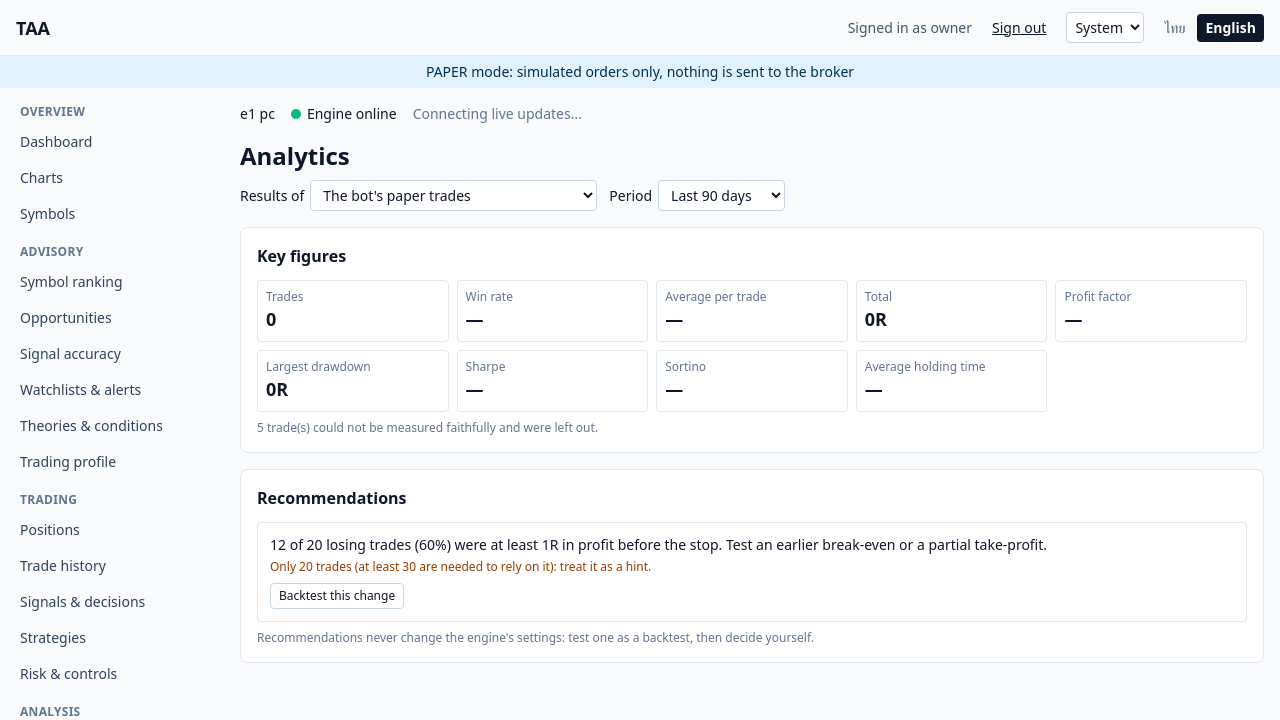
analytics page › shows a backtest run: key figures, curves, styles and attribution
Select "A backtest run" in the dropdown labelled "Results of". click: (454, 196)
box: [310,180,597,211]
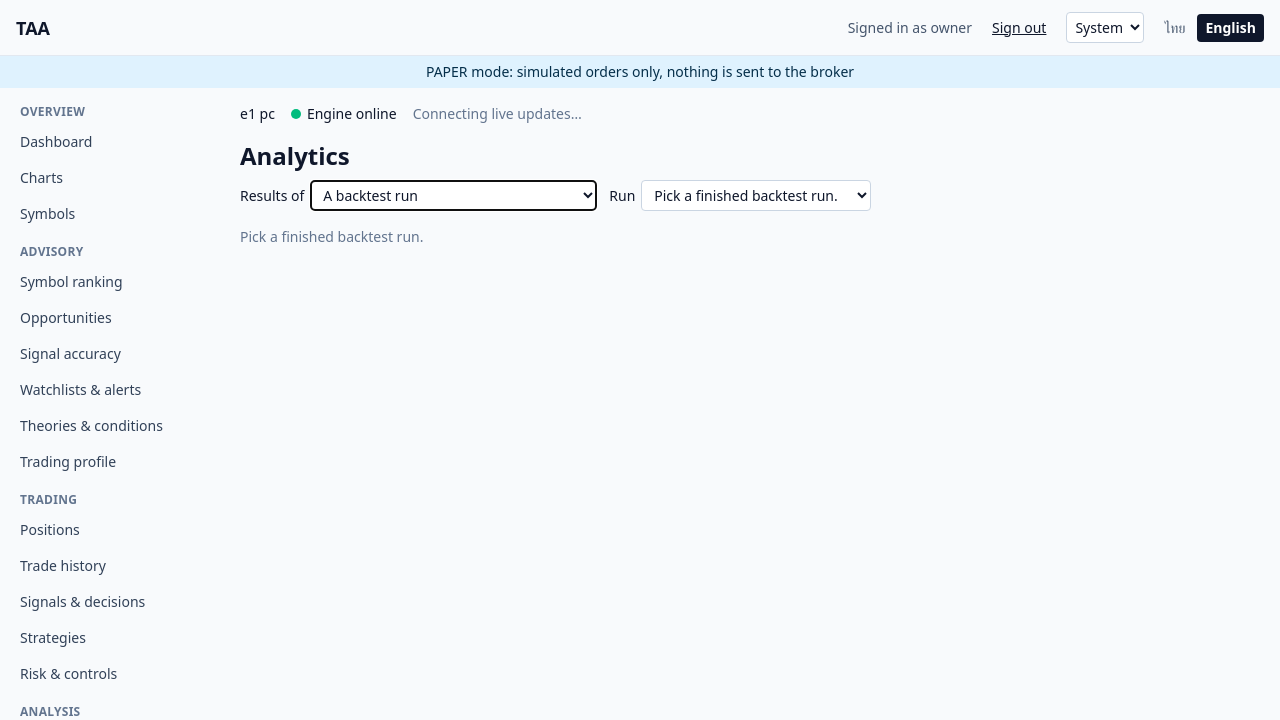
Check: the text "Pick a finished backtest run." is shown, box [240,227,424,246]
Select "1 Jan 2027, 07:00 · standard" in the dropdown labelled "Run". click: (756, 196)
box: [641,180,871,211]
(page scrolled)
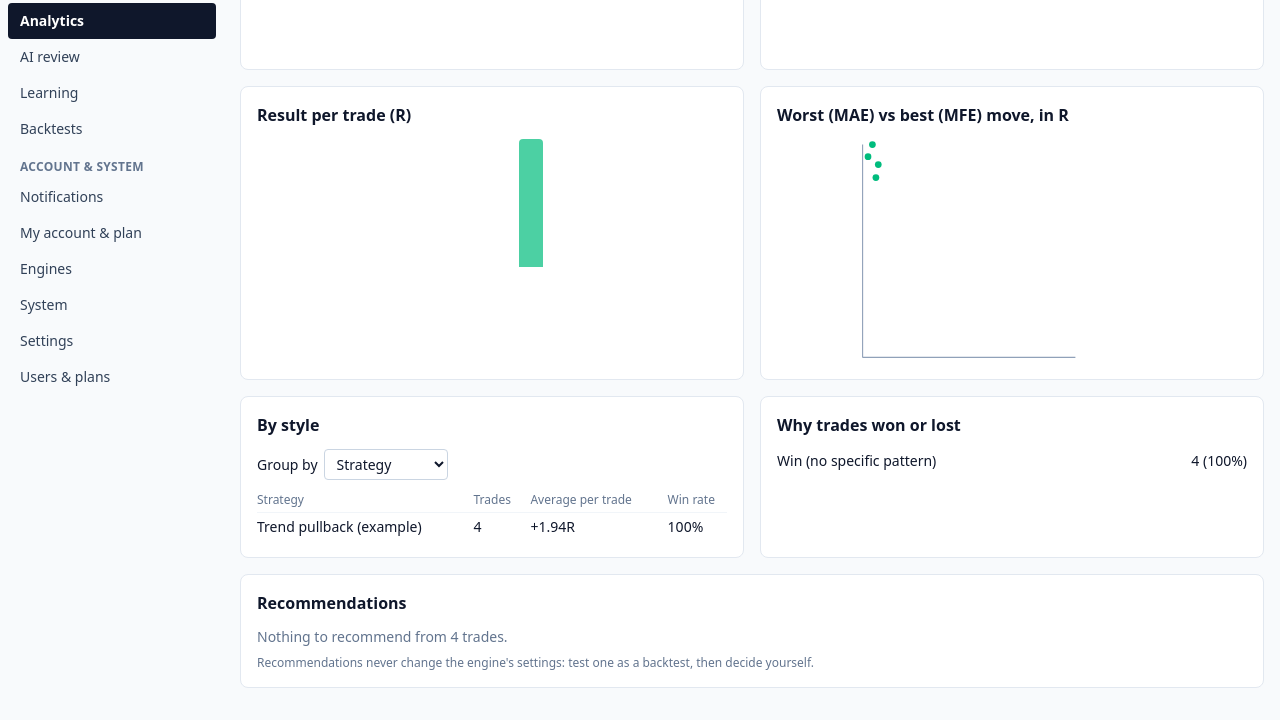
Check: the element "Why trades won or lost" shows "Win (no specific pattern)", box [777,451,936,470]
Check: the table shows "Trend pullback", box [257,517,422,536]
Check: the element "Recommendations" shows "Nothing to recommend from 4 trades.", box [257,627,508,646]
